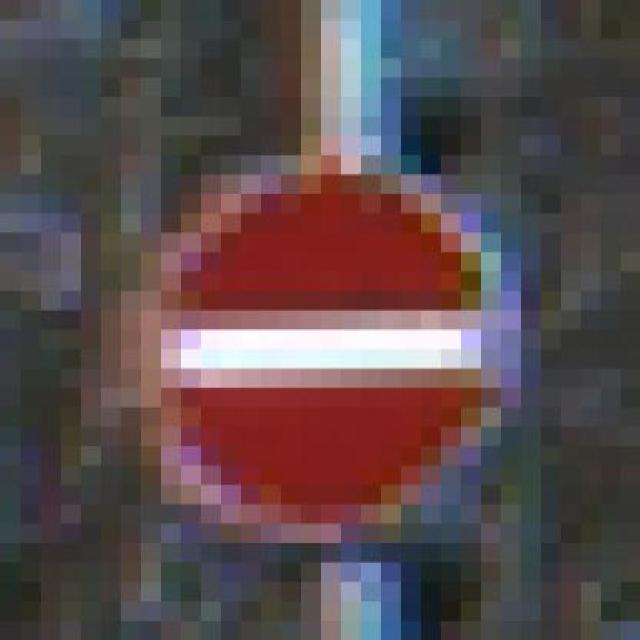No Entry: (60, 135, 580, 563)
